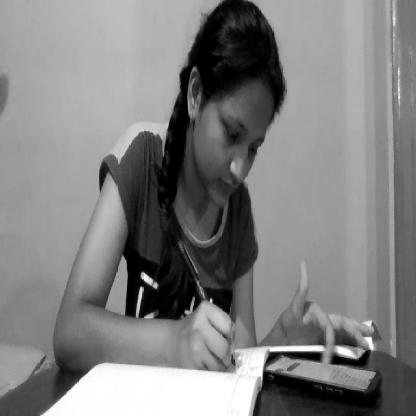Distracted: (178, 2, 288, 223)
